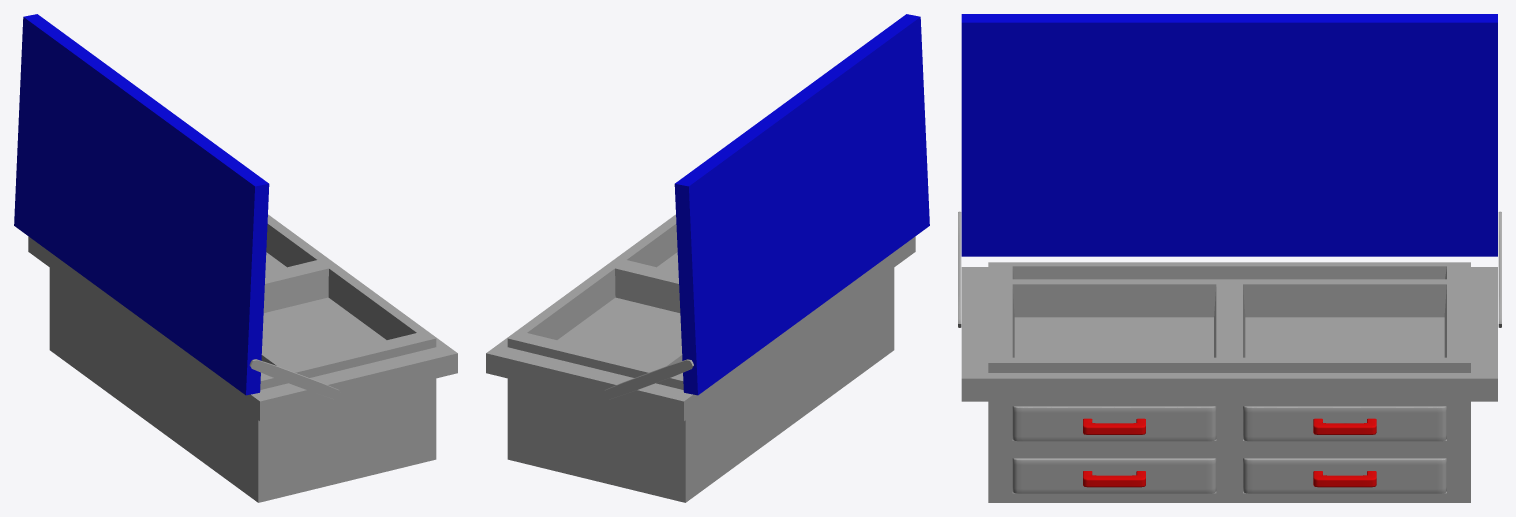
File: workKit.fbx
3 renders of one model, left to right at view 1: azimuth 30°, elevation 25°; view 2: azimuth 150°, elevation 25°; view 3: azimuth 270°, elevation 25°, orthographic. The views are drawn at different scales.
Visible parts, largest first — view 1: pCube34; view 2: pCube34; view 3: pCube34.
Boxes of the visible parts, x1,y1,x2,y2 form: pCube34: (14, 14, 457, 502); pCube34: (486, 14, 929, 502); pCube34: (958, 14, 1501, 502).
Bounding box in the file's own units: 3.6 × 5.17 × 6.7.
